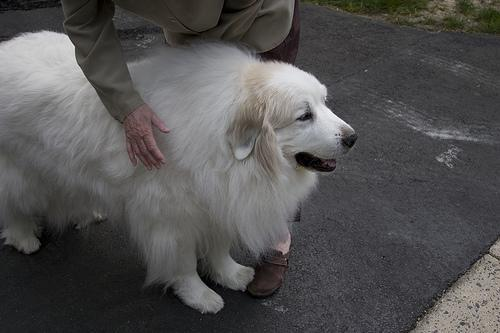Great_Pyrenees: (0, 30, 360, 317)
